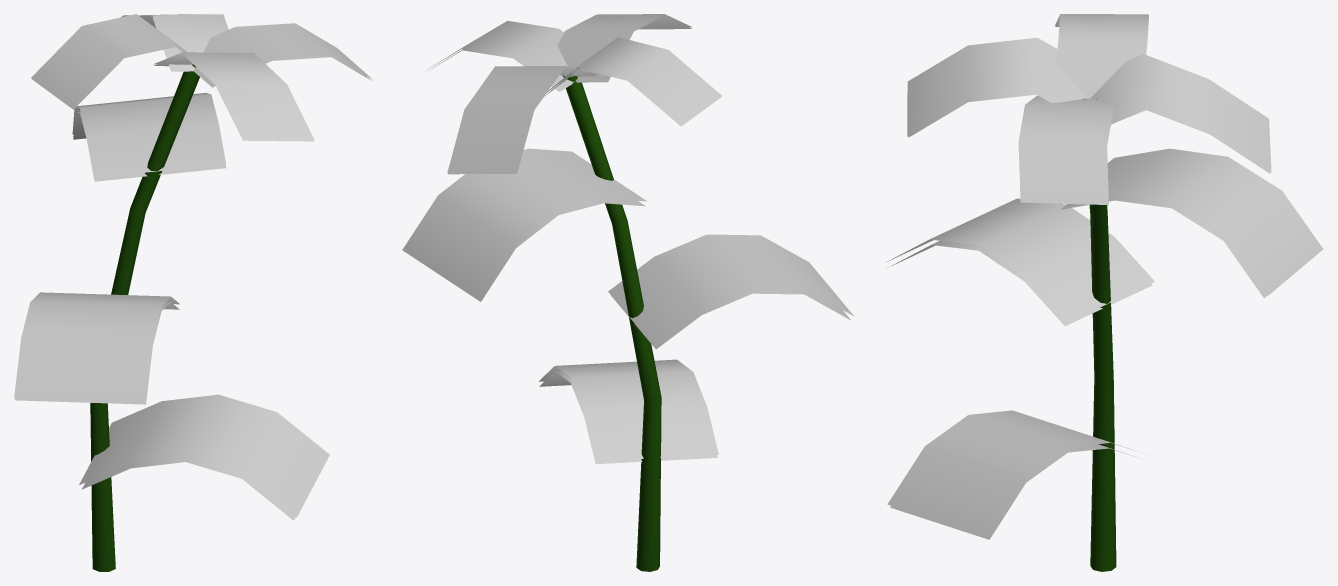
File: Flor celeste 1.fbx
3 views of the same model, side by side, from view 1: azimuth 30°, elevation 25°; view 2: azimuth 150°, elevation 25°; view 3: azimuth 270°, elevation 25° (orthographic). The views are drawn at different scales.
Parts seen in each view (by area): view 1: Hoja de flor celeste (×2), Flor Celeste, Hoja de flor celeste001, Tallo 1; view 2: Hoja de flor celeste (×2), Flor Celeste, Hoja de flor celeste001, Tallo 1; view 3: Flor Celeste, Hoja de flor celeste (×2), Hoja de flor celeste001, Tallo 1.
Boxes of the visible parts, box(x1,y1,x2,y2) form: Hoja de flor celeste (×2): box(14, 292, 329, 520); Flor Celeste: box(31, 14, 372, 141); Hoja de flor celeste001: box(72, 93, 226, 181); Tallo 1: box(90, 64, 199, 571); Hoja de flor celeste (×2): box(539, 234, 854, 464); Flor Celeste: box(427, 14, 721, 174); Hoja de flor celeste001: box(402, 148, 647, 301); Tallo 1: box(562, 75, 661, 571); Flor Celeste: box(907, 14, 1271, 204); Hoja de flor celeste (×2): box(887, 198, 1154, 539); Hoja de flor celeste001: box(1059, 148, 1323, 297); Tallo 1: box(1083, 98, 1116, 571).
Size of the model in its own units: 1.01 by 0.9421 by 1.31.
